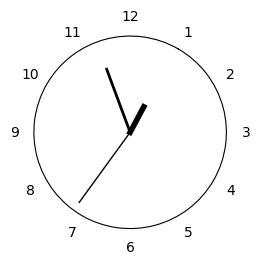12: (122, 9, 139, 23)
circle: (34, 36, 227, 229)
hours: (127, 103, 148, 136)
minutes: (105, 67, 130, 128)
seconds: (79, 135, 129, 201)
